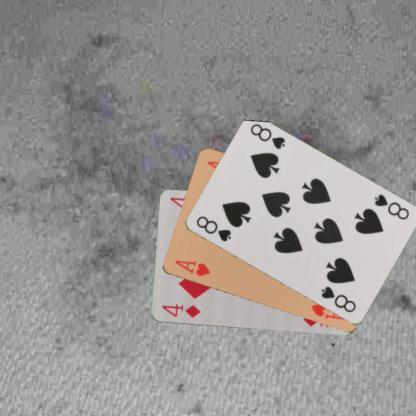4d: (159, 301, 201, 320)
8s: (193, 213, 232, 243), (371, 192, 410, 222)
Ah: (172, 258, 211, 277)
